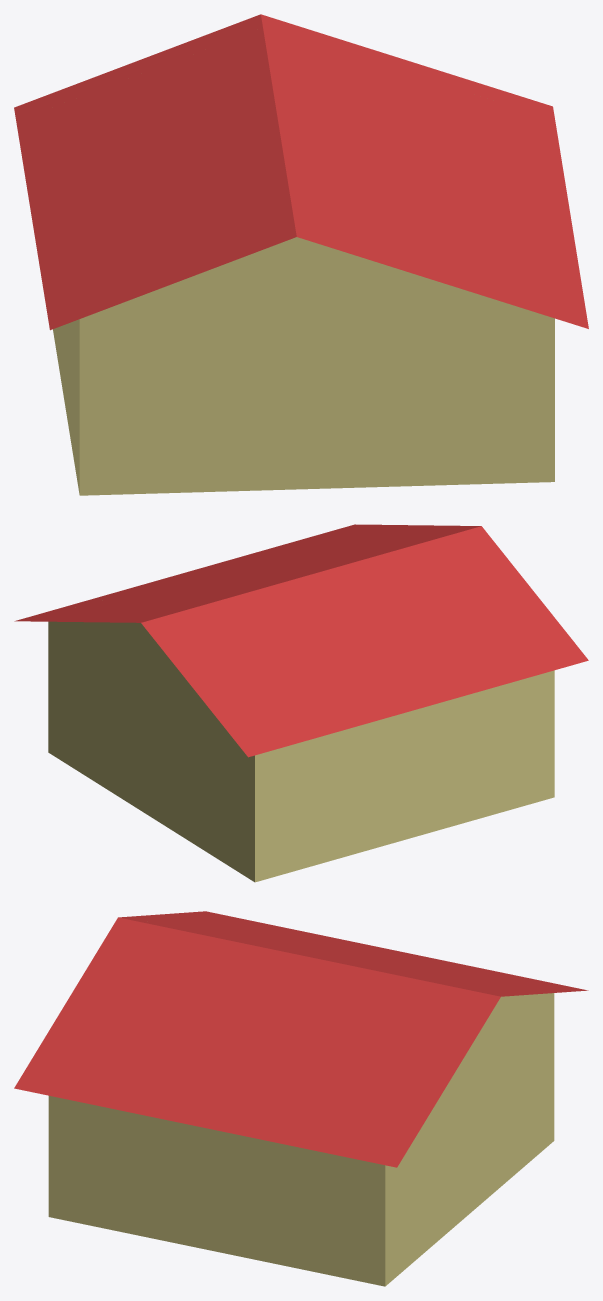
3 views of the same model, one above another, from view 1: azimuth 30°, elevation 25°; view 2: azimuth 150°, elevation 25°; view 3: azimuth 270°, elevation 25° (orthographic). The views are drawn at different scales.
Visible parts, largest first — view 1: group_3, group_5, group_4; view 2: group_5, group_3, group_4; view 3: group_3, group_5, group_4.
Part boxes in pixels (bbox=[...]): group_3: bbox=[14, 14, 588, 330]; group_5: bbox=[53, 237, 554, 495]; group_4: bbox=[14, 14, 588, 327]; group_5: bbox=[48, 621, 554, 882]; group_3: bbox=[49, 524, 588, 756]; group_4: bbox=[14, 526, 482, 757]; group_3: bbox=[14, 911, 581, 1153]; group_5: bbox=[48, 993, 554, 1286]; group_4: bbox=[16, 917, 587, 1167].
Bounding box in the file's own units: 22.43 × 22.26 × 9.17.
